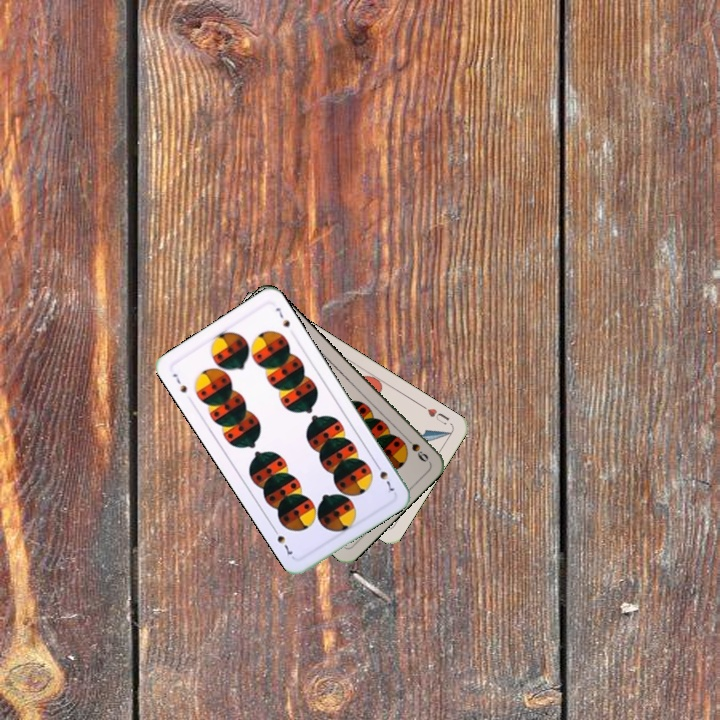HU: (417, 401, 452, 428)
S7: (371, 459, 397, 495), (168, 369, 190, 396)
S9: (400, 431, 431, 465)
